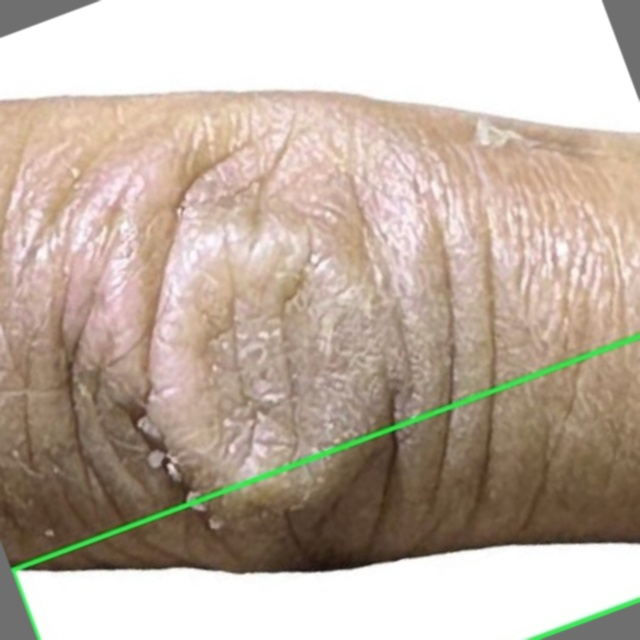Contact Dermatitis: (12, 337, 639, 639)
